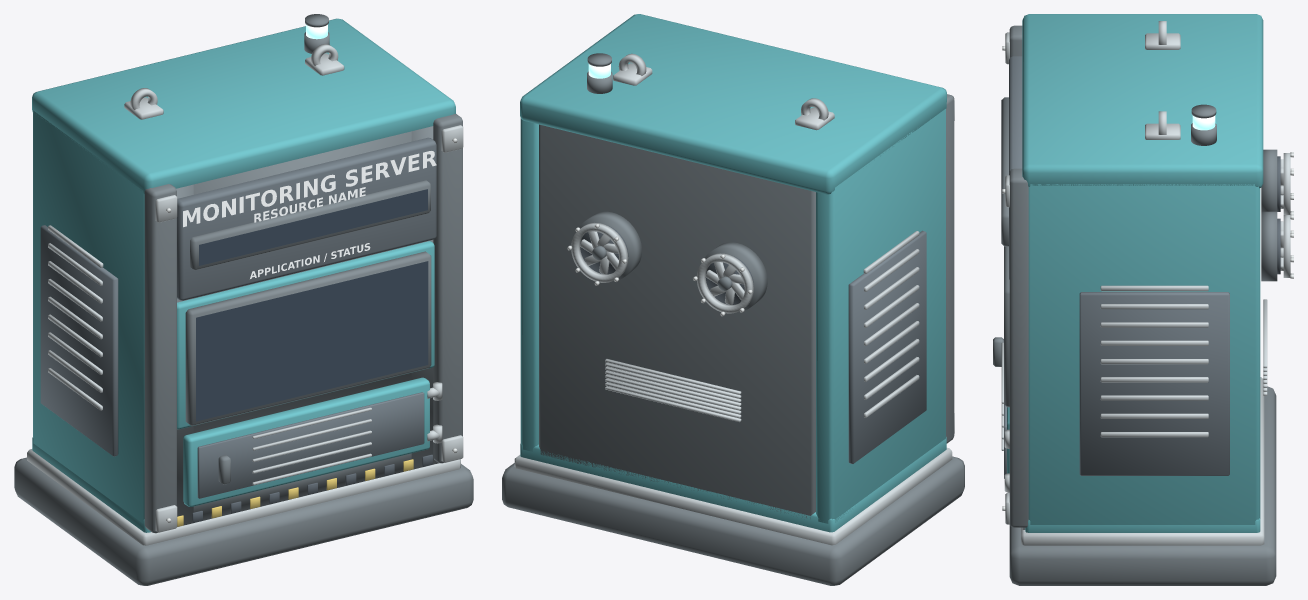
File: monitoring_server_ultra.glb
3 renders of one model, left to right at view 1: azimuth 30°, elevation 25°; view 2: azimuth 150°, elevation 25°; view 3: azimuth 270°, elevation 25°, orthographic. The views are drawn at different scales.
Visible parts, largest first — view 1: Roof_teal, LiveViewSurface_glass, SideWall_teal, Skid_frame, CornerPost_frame, FrontHeader_graphite, SideServicePanel_graphite, DoorMoving_Inset_graphite, DoorMoving_Panel_teal, SkidDeck_steel, LiveViewSurfaceFrame_frame, ResourceNameSurface_glass (+15 smaller); view 2: BackWall_frame, Roof_teal, SideWall_teal, Skid_frame, SideServicePanel_graphite, SkidDeck_steel, KickPlate_teal, RearFan_steel, RearVent_steel, SideLouver_steel, CornerPost_frame, RearFan_frame (+3 smaller); view 3: SideWall_teal, Roof_teal, SideServicePanel_graphite, Skid_frame, CornerPost_frame, SideLouver_steel, SkidDeck_steel, RearFan_frame, KickPlate_teal, FrontHeader_graphite, RearFan_steel, ResourceNameSurfaceFrame_frame (+7 smaller).
Boxes of the visible parts, x1,y1,x2,y2 form: Roof_teal: (32,18,455,194); LiveViewSurface_glass: (196,261,428,421); SideWall_teal: (33,110,144,523); Skid_frame: (14,457,473,585); CornerPost_frame: (144,114,462,533); FrontHeader_graphite: (177,137,436,300); SideServicePanel_graphite: (40,225,118,456); DoorMoving_Inset_graphite: (197,392,424,498); DoorMoving_Panel_teal: (183,377,429,506); SkidDeck_steel: (27,449,460,545); LiveViewSurfaceFrame_frame: (185,251,431,425); ResourceNameSurface_glass: (199,189,427,265); BackWall_frame: (539,124,815,518); Roof_teal: (520,14,946,194); SideWall_teal: (520,109,945,523); Skid_frame: (502,456,964,585); SideServicePanel_graphite: (848,230,926,463); SkidDeck_steel: (514,447,952,545); KickPlate_teal: (520,437,946,532); RearFan_steel: (571,222,753,313); RearVent_steel: (605,359,741,422); SideLouver_steel: (863,231,919,417); CornerPost_frame: (946,94,954,443); RearFan_frame: (579,211,767,311); SideWall_teal: (1028,184,1260,524); Roof_teal: (1022,14,1263,188); SideServicePanel_graphite: (1079,292,1229,475); Skid_frame: (1009,386,1276,585); CornerPost_frame: (1009,25,1028,527); SideLouver_steel: (1100,285,1208,437); SkidDeck_steel: (1021,377,1264,545); RearFan_frame: (1261,149,1277,281); KickPlate_teal: (1025,518,1260,532); FrontHeader_graphite: (1009,56,1022,279); RearFan_steel: (1280,153,1290,277); ResourceNameSurfaceFrame_frame: (1001,97,1008,246).
Size of the model in its own units: 2 by 2.48 by 1.51.
